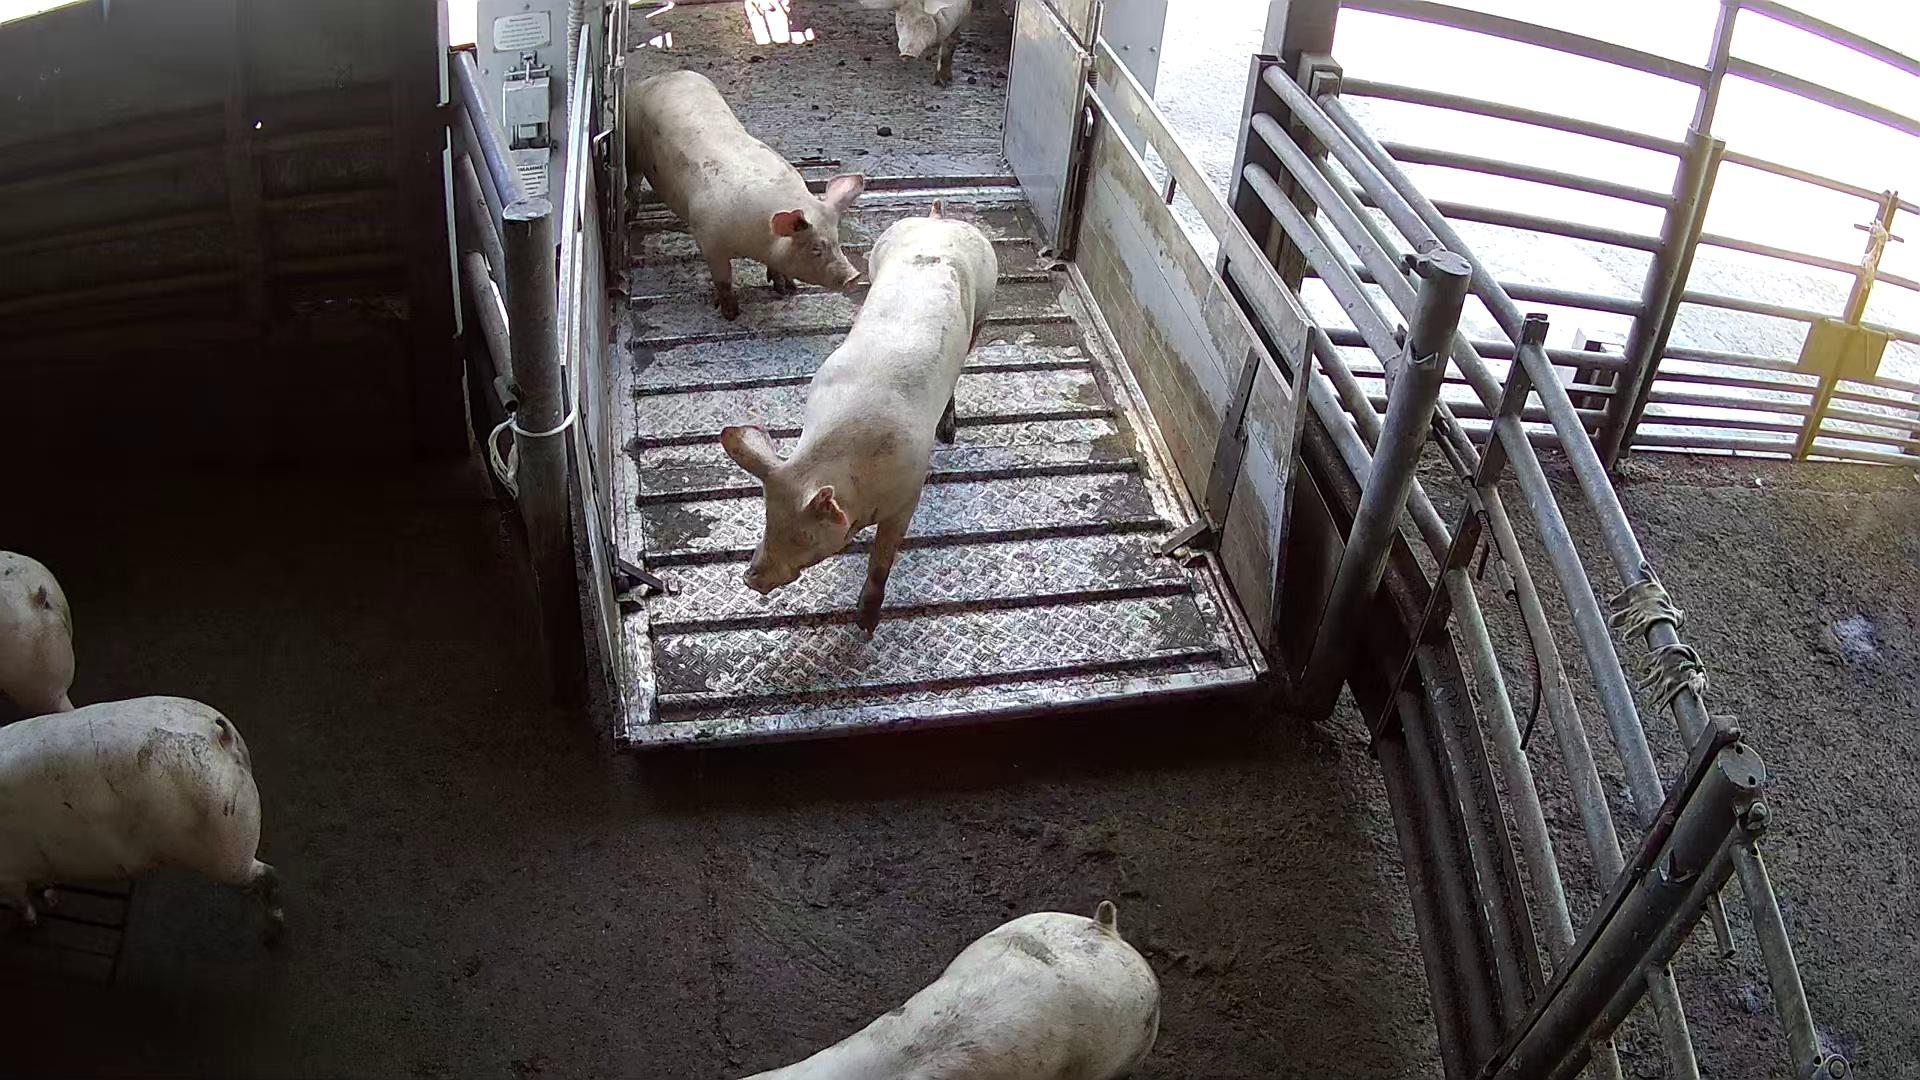Pig: (720, 207, 998, 633), (745, 903, 1160, 1080), (0, 696, 280, 942), (625, 67, 865, 318), (0, 550, 73, 715), (861, 0, 972, 82)
